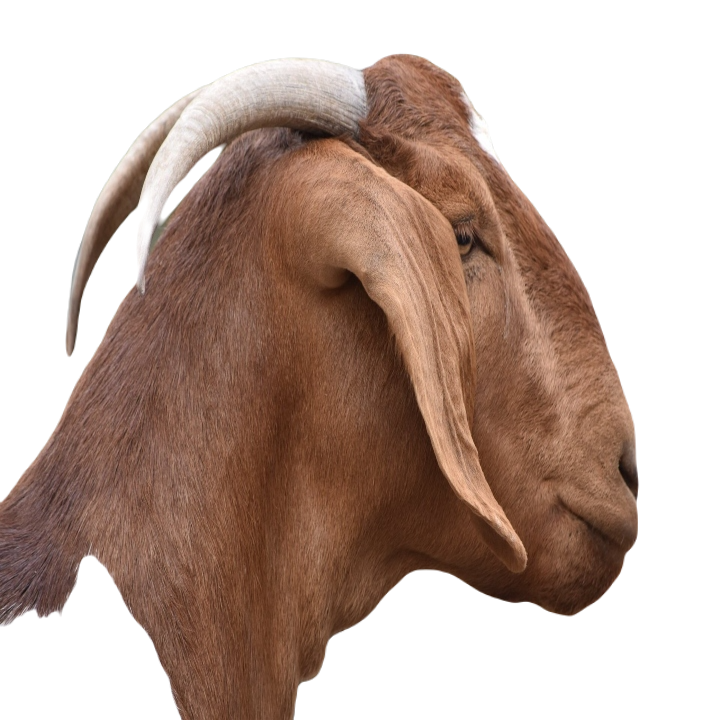Goat: (0, 52, 643, 719)
